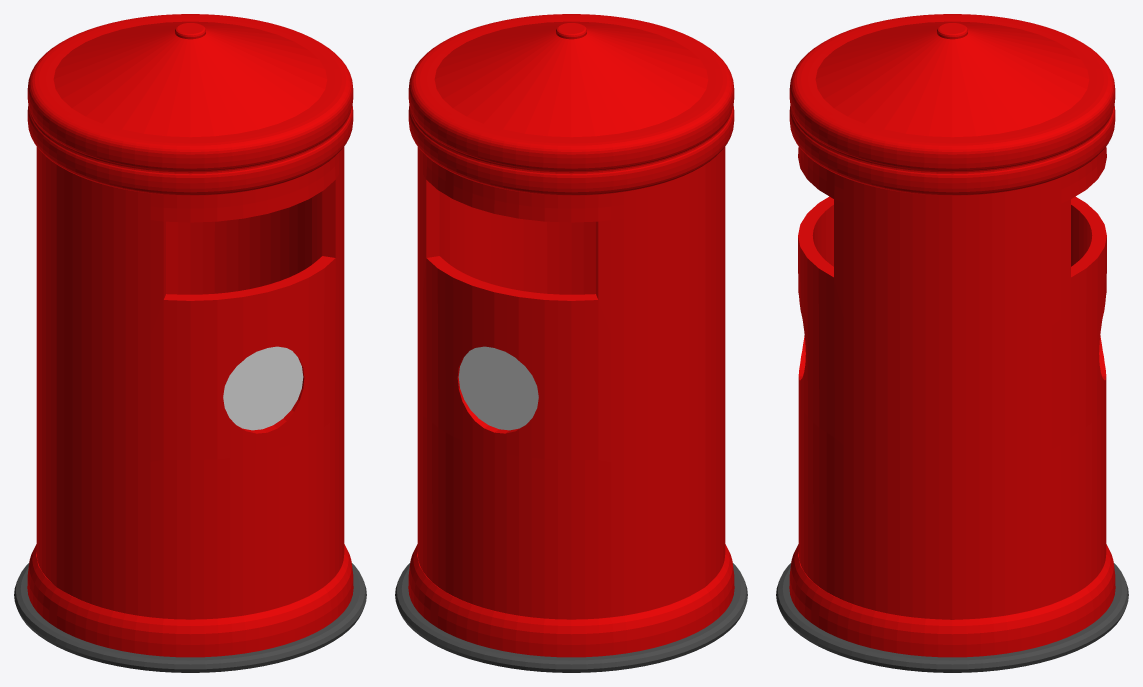
Rendered from TrashCan3.fbx.
3 views of the same model, side by side, from view 1: azimuth 30°, elevation 25°; view 2: azimuth 150°, elevation 25°; view 3: azimuth 270°, elevation 25° (orthographic).
Visible parts, largest first — view 1: TrashCan3; view 2: TrashCan3; view 3: TrashCan3.
Part boxes in pixels (x1,y1,x2,y2): TrashCan3: [14, 14, 366, 672]; TrashCan3: [395, 14, 747, 672]; TrashCan3: [776, 14, 1128, 672].
Size of the model in its own units: 75.37 by 135 by 75.37.
